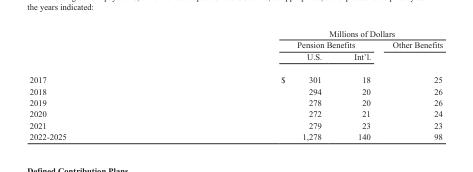table: (28, 28, 442, 141)
table column: (173, 28, 337, 141), (28, 28, 173, 141), (381, 28, 442, 141), (337, 28, 381, 141)
table column header: (28, 28, 442, 67)
table row: (28, 50, 442, 67), (28, 67, 442, 84), (28, 38, 442, 50), (28, 84, 442, 96), (28, 107, 442, 119), (28, 96, 442, 107), (28, 119, 442, 130), (28, 130, 442, 141), (28, 28, 442, 38)
table spanning cell: (173, 28, 442, 38), (173, 38, 381, 50), (381, 38, 442, 67)
